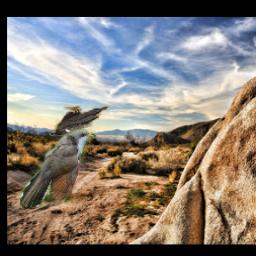Crow: (50, 104, 112, 136)
Cuckoo: (19, 129, 95, 207)
